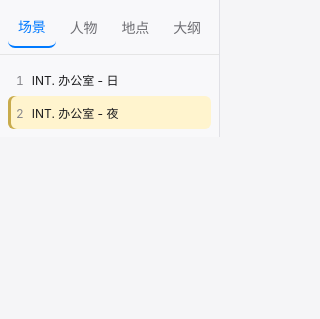
it: a paragraph highlights its containing scene, location and exact outline row
The width and height of the screenshot is (320, 319).
Click the button "地点": coordinates (135, 27) left=112, top=6, right=159, bottom=48
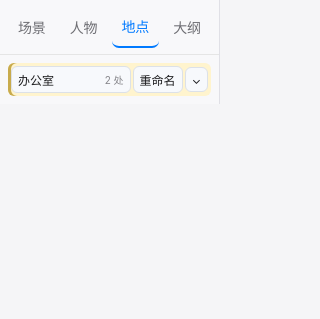
Result: the list item with class "navigator-entity" shows "办公室" at left=11, top=66, right=131, bottom=93
Click the button "大纲": coordinates (187, 27) left=163, top=6, right=211, bottom=48
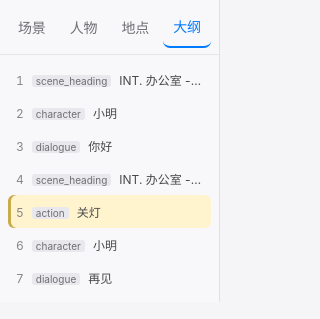
Result: the list item "5 action 关灯" is shown at left=8, top=195, right=211, bottom=228
